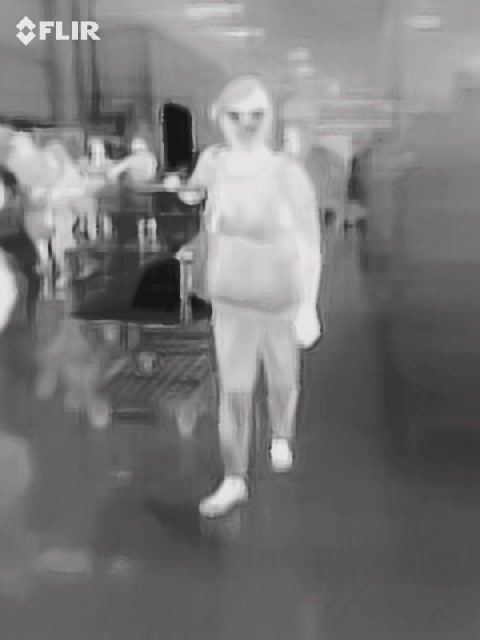head: (219, 75, 274, 151)
